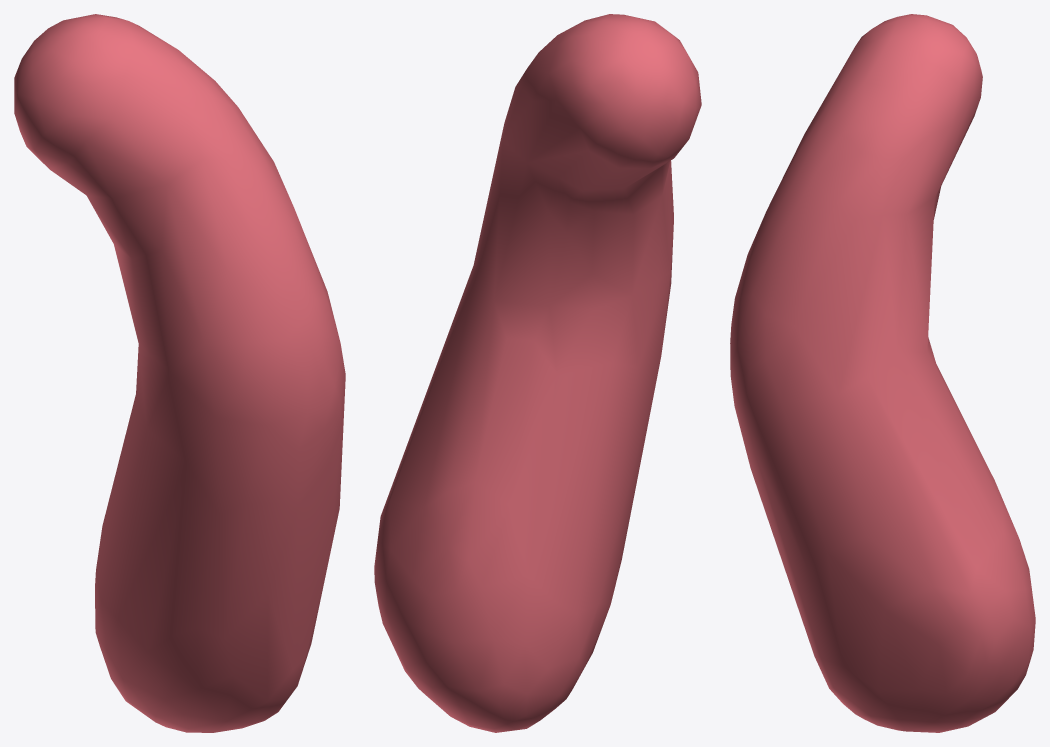
The model's file is fma66647_fj3583.glb.
3 views of the same model, side by side, from view 1: azimuth 30°, elevation 25°; view 2: azimuth 150°, elevation 25°; view 3: azimuth 270°, elevation 25° (orthographic). The views are drawn at different scales.
Parts seen in each view (by area): view 1: FMA66647_FJ3583; view 2: FMA66647_FJ3583; view 3: FMA66647_FJ3583.
Part boxes in pixels (x1,y1,x2,y2): FMA66647_FJ3583: (14,14,345,732); FMA66647_FJ3583: (374,14,701,732); FMA66647_FJ3583: (730,14,1035,732).
Bounding box in the file's own units: 0.0217 × 0.0518 × 0.0219.
